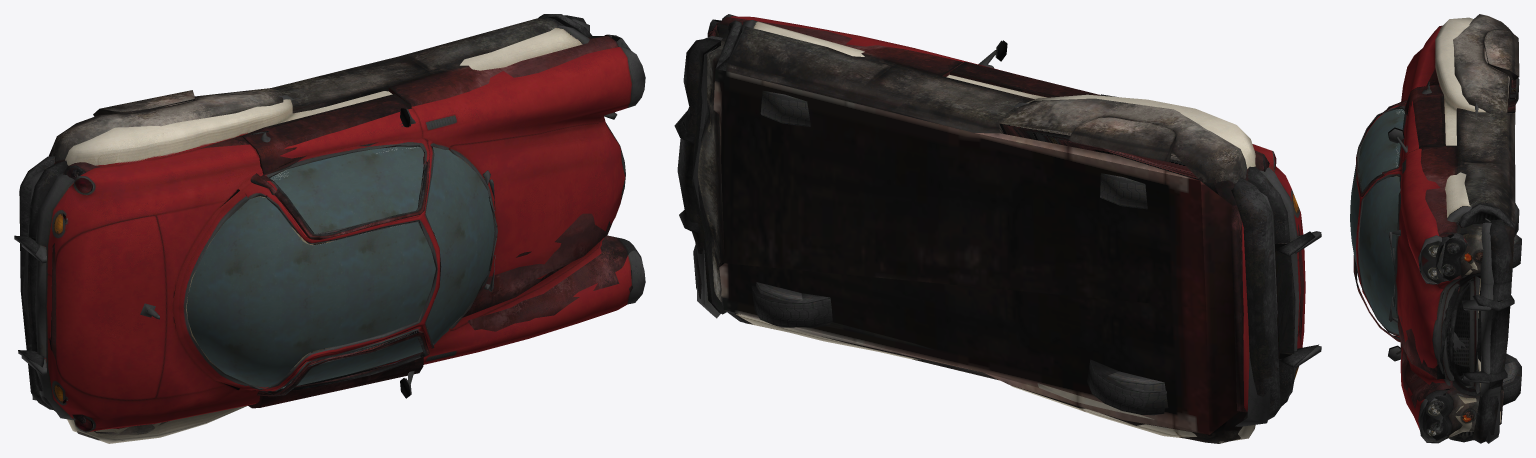
The model's file is veh_t6_nuketown_2020_car02_whole_LOD2.obj.
3 views of the same model, side by side, from view 1: azimuth 30°, elevation 25°; view 2: azimuth 150°, elevation 25°; view 3: azimuth 270°, elevation 25° (orthographic). The views are drawn at different scales.
Parts seen in each view (by area): view 1: mtl_nt_2020_car_02_exterior, mtl_nt_2020_car_01_glass_out, mtl_nt_2020_car_02_dest_exterior, mtl_nt_2020_car_01_glass_in; view 2: mtl_nt_2020_car_02_dest_exterior, mtl_nt_2020_car_02_exterior; view 3: mtl_nt_2020_car_02_dest_exterior, mtl_nt_2020_car_02_exterior, mtl_nt_2020_car_01_glass_out, mtl_nt_2020_car_01_glass_in.
Part boxes in pixels (x1,y1,x2,y2): mtl_nt_2020_car_02_exterior: (21, 19, 645, 443); mtl_nt_2020_car_01_glass_out: (186, 146, 494, 388); mtl_nt_2020_car_02_dest_exterior: (14, 14, 642, 440); mtl_nt_2020_car_01_glass_in: (187, 148, 493, 387); mtl_nt_2020_car_02_dest_exterior: (674, 17, 1318, 443); mtl_nt_2020_car_02_exterior: (693, 14, 1321, 442); mtl_nt_2020_car_02_dest_exterior: (1353, 14, 1521, 443); mtl_nt_2020_car_02_exterior: (1356, 17, 1519, 443); mtl_nt_2020_car_01_glass_out: (1350, 109, 1404, 334); mtl_nt_2020_car_01_glass_in: (1350, 110, 1396, 327).
Size of the model in its own units: 504 by 248 by 156.
